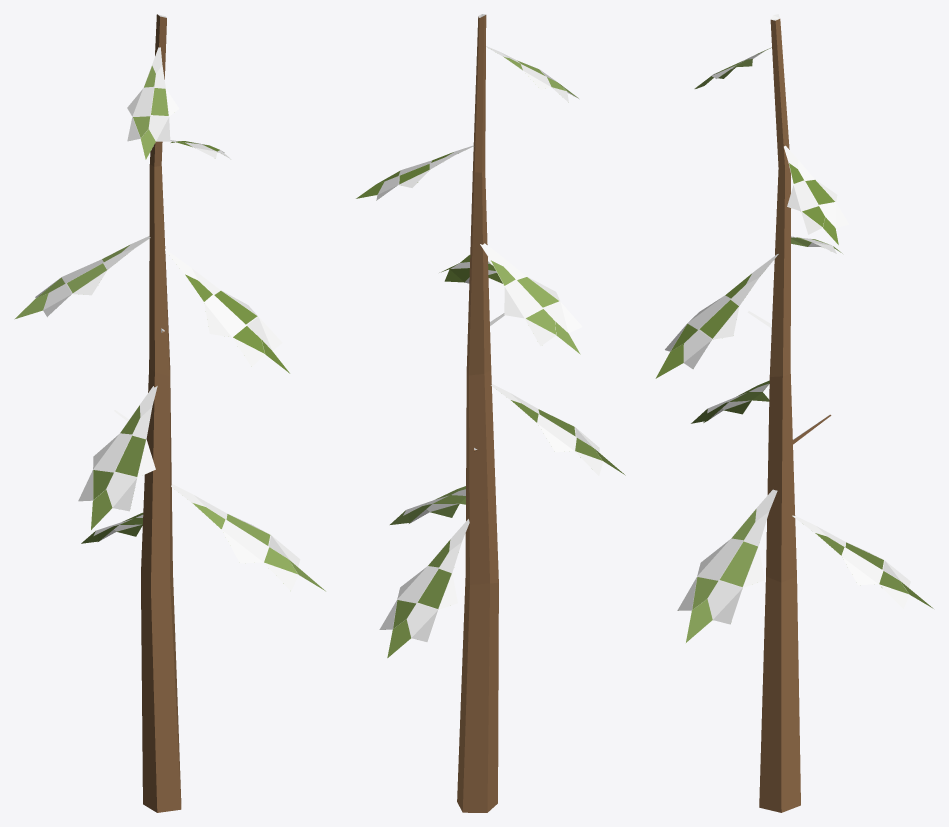
File: Dead_Pine_Tree_crk_l_Snow_05.fbx
3 views of the same model, side by side, from view 1: azimuth 30°, elevation 25°; view 2: azimuth 150°, elevation 25°; view 3: azimuth 270°, elevation 25° (orthographic).
Parts seen in each view (by area): view 1: Dead_Pine_Tree_crk_l_Snow_05; view 2: Dead_Pine_Tree_crk_l_Snow_05; view 3: Dead_Pine_Tree_crk_l_Snow_05.
Part boxes in pixels (bbox=[...]): Dead_Pine_Tree_crk_l_Snow_05: bbox=[14, 14, 325, 812]; Dead_Pine_Tree_crk_l_Snow_05: bbox=[356, 14, 625, 812]; Dead_Pine_Tree_crk_l_Snow_05: bbox=[655, 14, 933, 812].
Bounding box in the file's own units: 437 × 1363 × 439.
